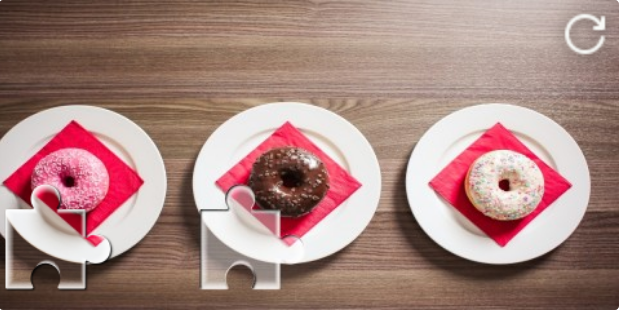target: (200, 184, 304, 290)
